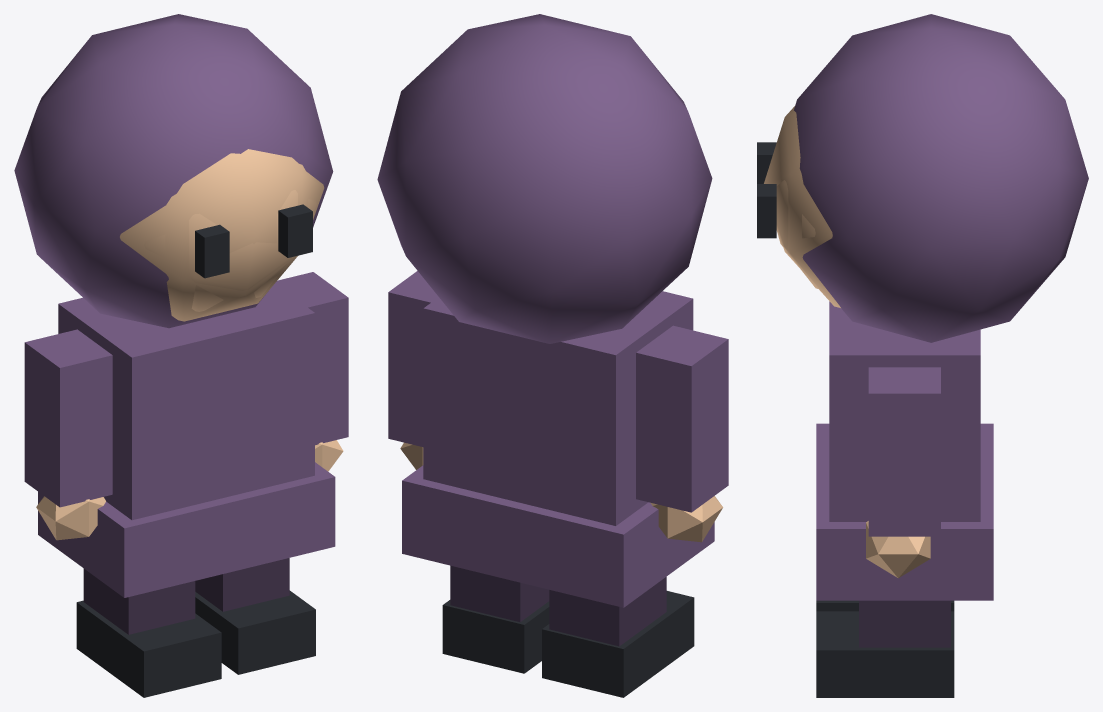
The model's file is npc_b.glb.
3 views of the same model, side by side, from view 1: azimuth 30°, elevation 25°; view 2: azimuth 150°, elevation 25°; view 3: azimuth 270°, elevation 25° (orthographic). The views are drawn at different scales.
Parts seen in each view (by area): view 1: head, torso, armR, legR, legL, armL; view 2: head, torso, armR, legR, legL, armL; view 3: head, torso, armL, legL, legR.
Boxes of the visible parts, x1,y1,x2,y2 form: head: (14, 14, 333, 328); torso: (38, 284, 335, 597); armR: (24, 329, 112, 540); legR: (76, 568, 221, 697); legL: (195, 558, 315, 674); armL: (275, 272, 348, 471); head: (377, 14, 712, 343); torso: (402, 291, 714, 607); armR: (636, 325, 728, 542); legR: (542, 577, 694, 697); legL: (442, 565, 549, 673); armL: (388, 271, 438, 469); head: (757, 14, 1088, 342); torso: (816, 301, 993, 600); armL: (866, 367, 940, 578); legL: (816, 600, 954, 697); legR: (816, 600, 954, 611).
Size of the model in its own units: 0.52 by 1.05 by 0.505.
